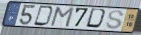5: (18, 4, 37, 26)
7: (74, 6, 90, 28)
D: (85, 8, 109, 30), (33, 5, 55, 27)
M: (49, 6, 75, 28)
S: (104, 9, 125, 30)
